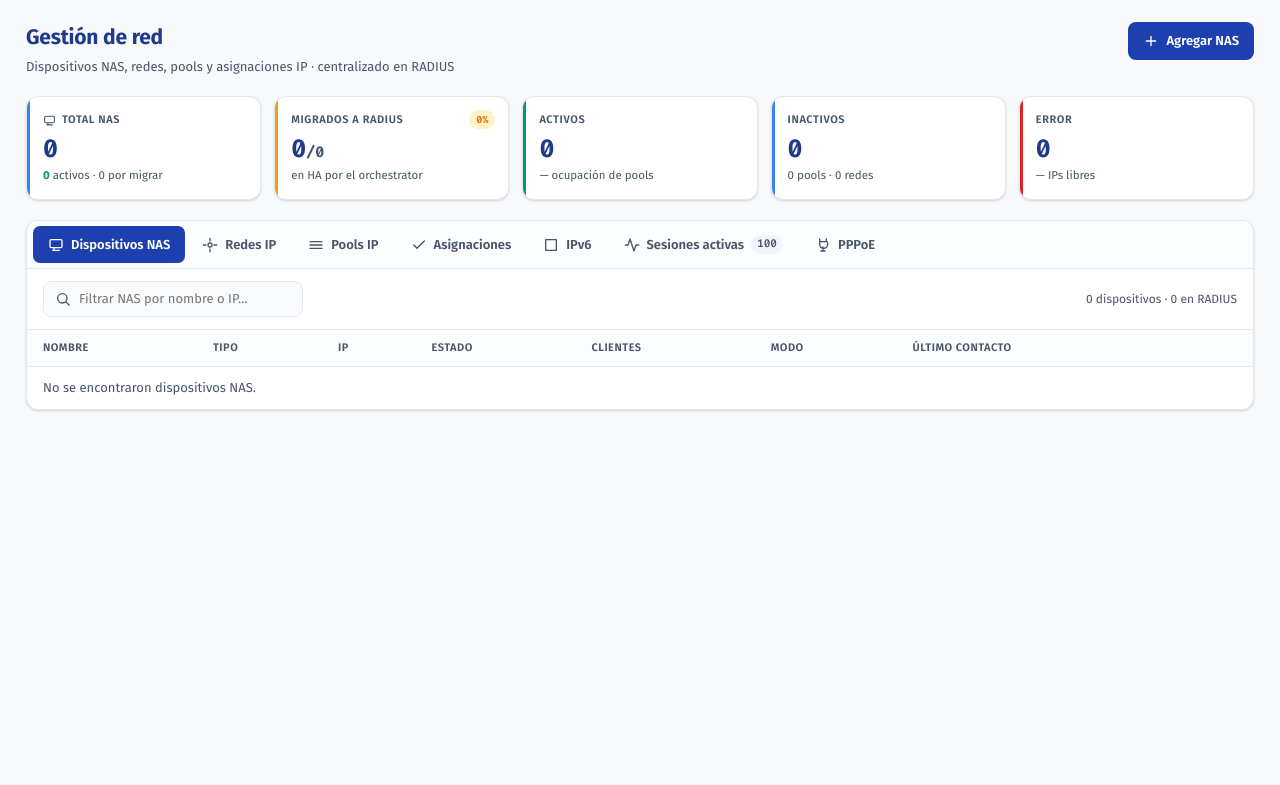
Test: GestionRedPage — Tab Sesiones activas › S-5: KPIs total/active/idle visibles desde stats
Click the button "Sesiones activas 100": click(703, 245) [608, 226, 798, 263]
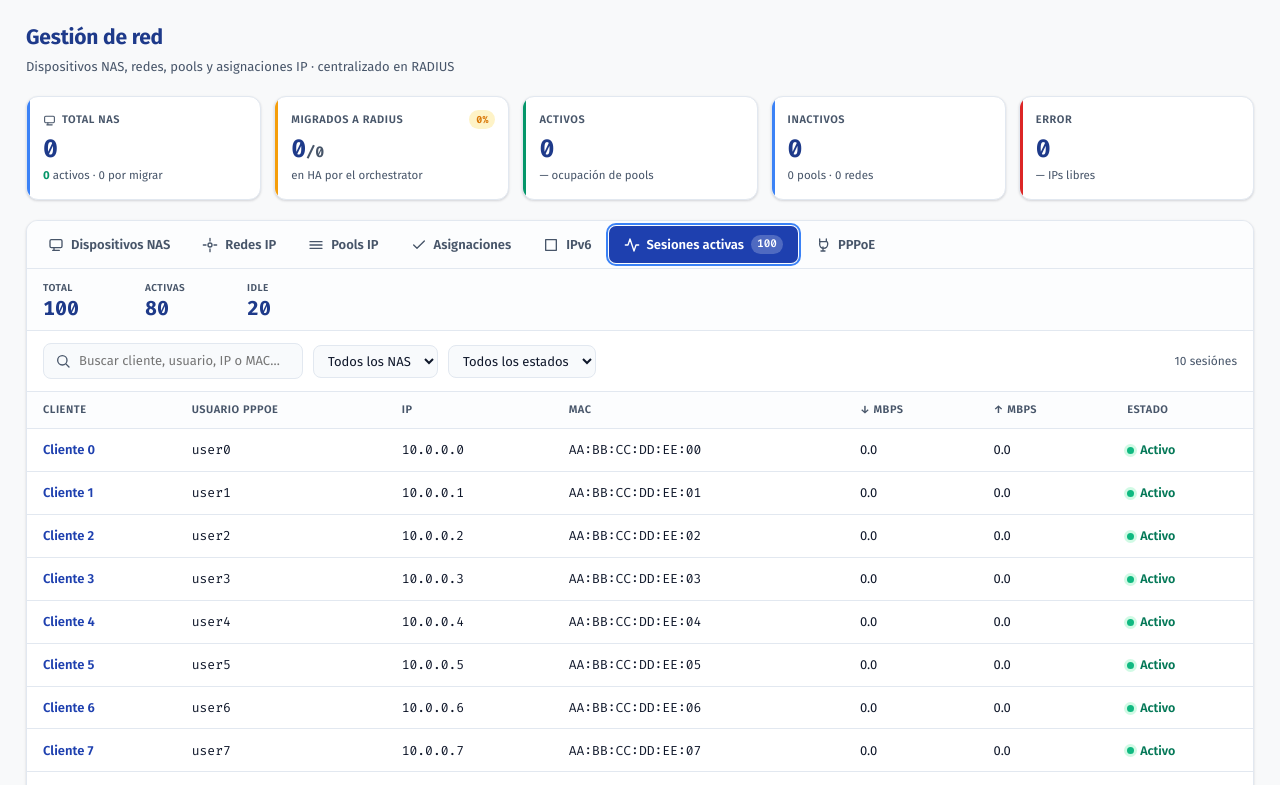
Check: the element named "Totales de sesiones" shows "100", box [43, 295, 79, 321]
Check: the element named "Totales de sesiones" shows "80", box [145, 295, 169, 321]
Check: the element named "Totales de sesiones" shows "20", box [247, 295, 271, 321]
